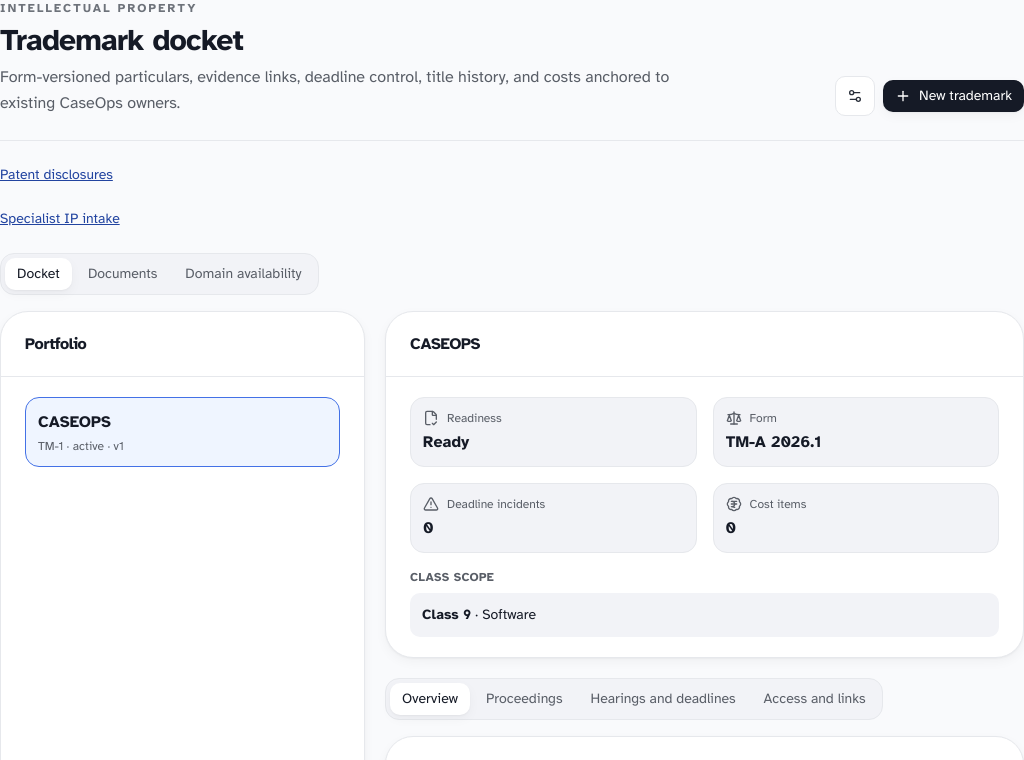
Test: IpDocketPage › shows saved hearing source and complete reminder policy without treating queued as delivered
The width and height of the screenshot is (1024, 760).
Click the tab "Hearings and deadlines" at [663, 699], box [578, 683, 748, 715]
(page scrolled)
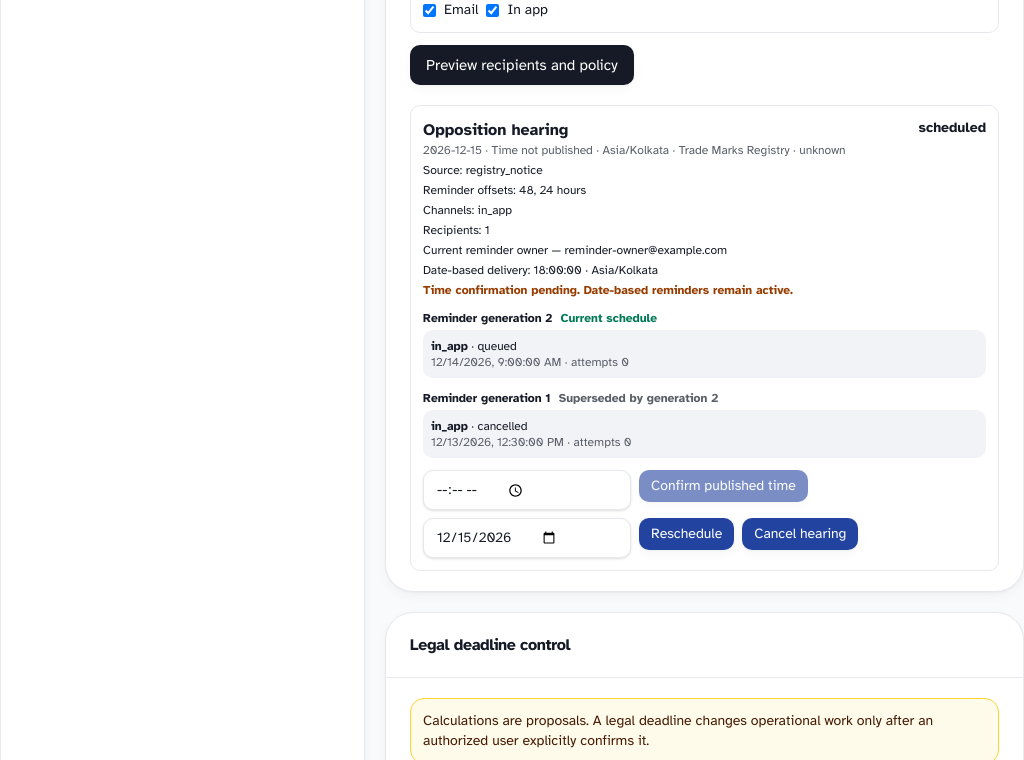
Now the text "Source: registry_notice" is shown, box [423, 163, 543, 177]
Now the text "Reminder offsets: 48, 24 hours" is shown, box [423, 183, 586, 197]
Now the text "Channels: in_app" is shown, box [423, 203, 512, 217]
